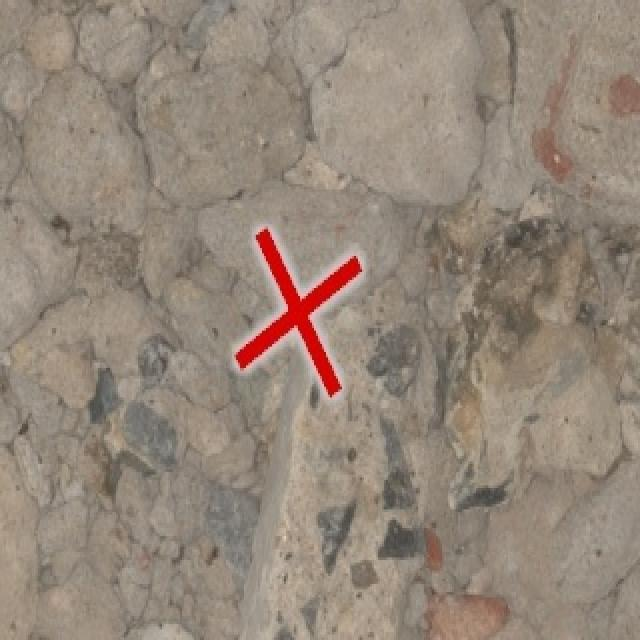x_marker: (235, 228, 361, 396)
